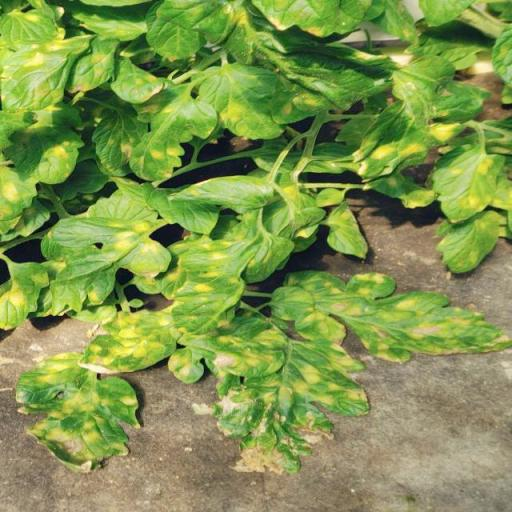Leaf Mold: (212, 338, 370, 474), (284, 268, 512, 362), (352, 54, 484, 182), (16, 351, 142, 475), (160, 227, 294, 337), (49, 216, 171, 316), (168, 308, 289, 384), (128, 79, 218, 181), (190, 64, 294, 140), (78, 310, 182, 376), (432, 142, 506, 224), (433, 210, 499, 274), (168, 175, 274, 214)
